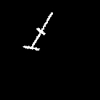double_crochet: (24, 13, 52, 49)
